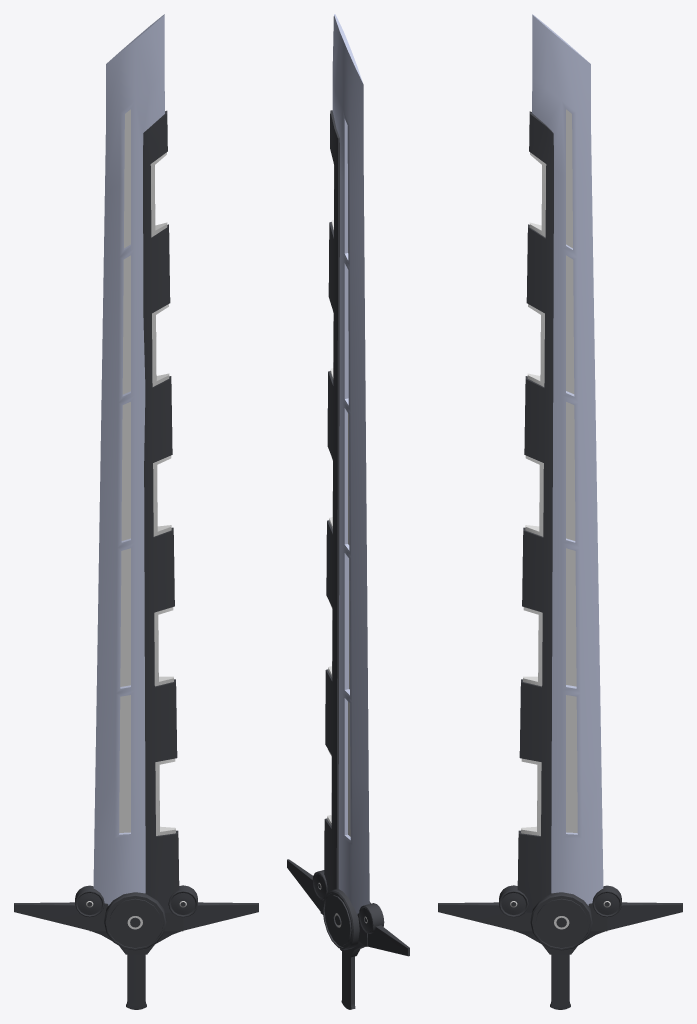
The model's file is BusterBlade_01.fbx.
3 renders of one model, left to right at view 1: azimuth 90°, elevation 25°; view 2: azimuth 210°, elevation 25°; view 3: azimuth 270°, elevation 25°, orthographic.
Visible parts, largest first — view 1: Blade, Hilt, HiltPart1, BladeBack, HiltPart2, HiltPart3; view 2: Blade, Hilt, HiltPart1, HiltPart2, HiltPart3, BladeBack; view 3: Blade, Hilt, HiltPart1, BladeBack, HiltPart2, HiltPart3.
Part boxes in pixels (x1,y1,x2,y2): Blade: (93, 14, 179, 912); Hilt: (14, 902, 258, 1009); HiltPart1: (104, 892, 166, 950); BladeBack: (150, 152, 175, 835); HiltPart2: (75, 885, 104, 917); HiltPart3: (168, 885, 197, 917); Blade: (324, 14, 369, 914); Hilt: (287, 859, 409, 1009); HiltPart1: (322, 889, 370, 950); HiltPart2: (359, 903, 384, 933); HiltPart3: (312, 870, 327, 900); BladeBack: (327, 165, 334, 825); Blade: (517, 14, 603, 912); Hilt: (438, 902, 682, 1009); HiltPart1: (530, 892, 592, 950); BladeBack: (521, 152, 546, 835); HiltPart2: (592, 885, 621, 917); HiltPart3: (499, 885, 528, 917).
Bounding box in the file's own units: 0.6271 × 25.6 × 5.71.
